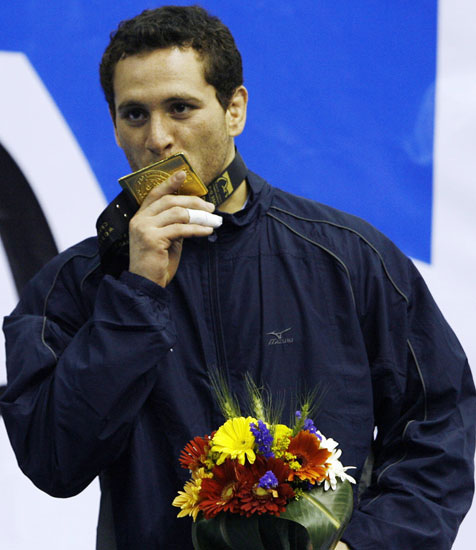face: (113, 48, 222, 199)
